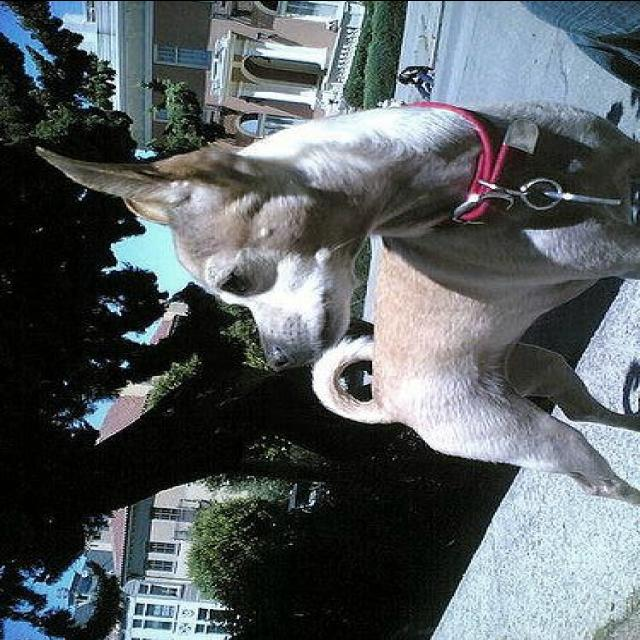chihuahua: (36, 97, 638, 510)
